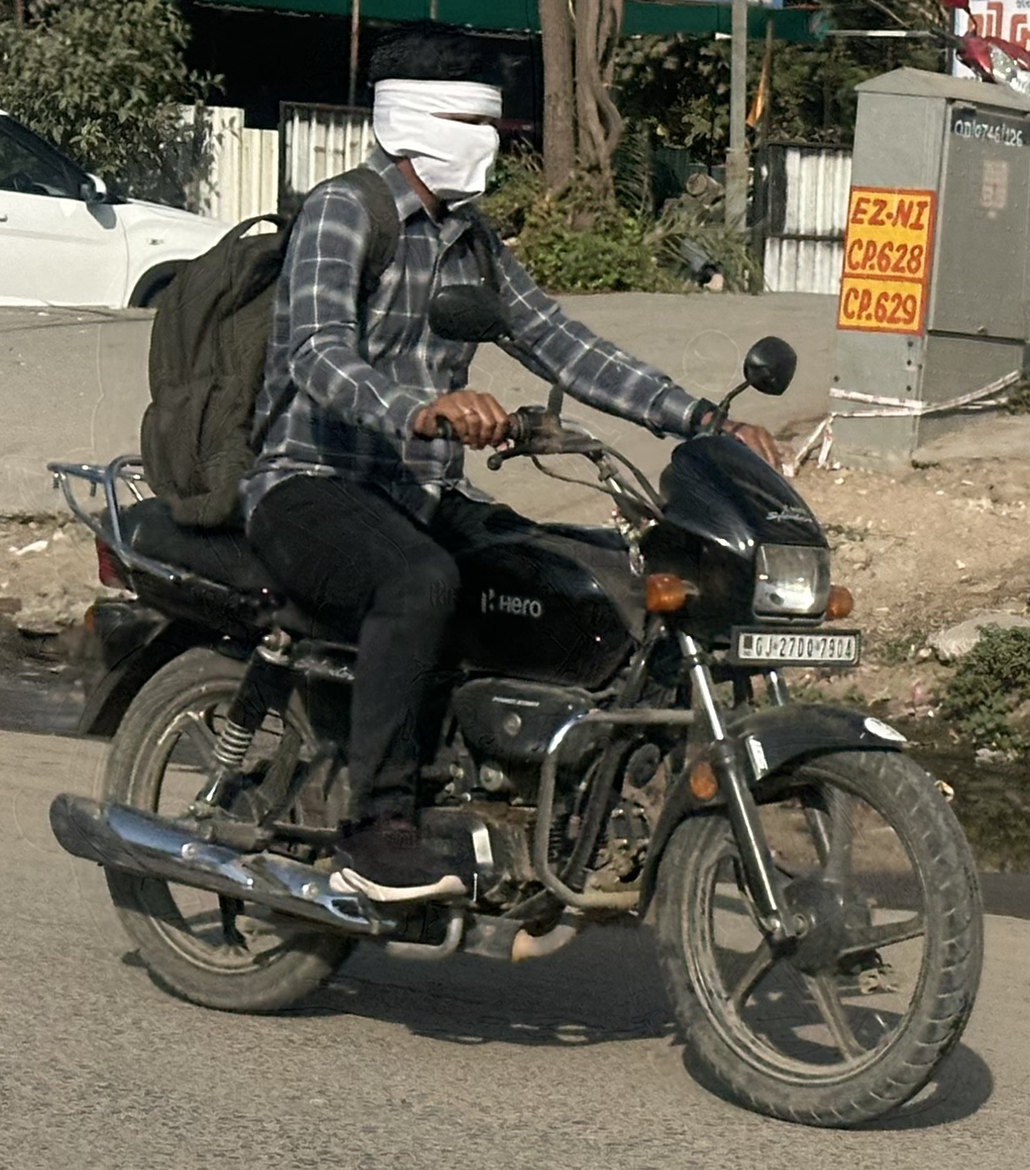BikeWithRider: (27, 13, 986, 1140)
NoHelmet: (334, 13, 536, 226)
